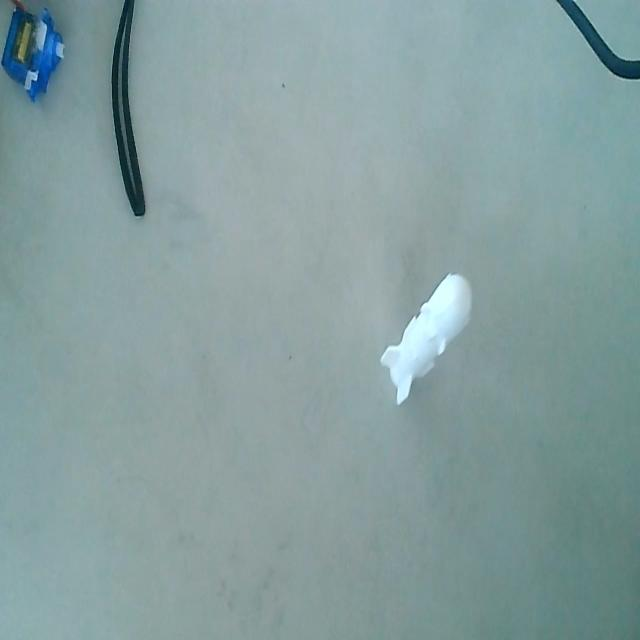Rocket: (382, 266, 477, 412)
